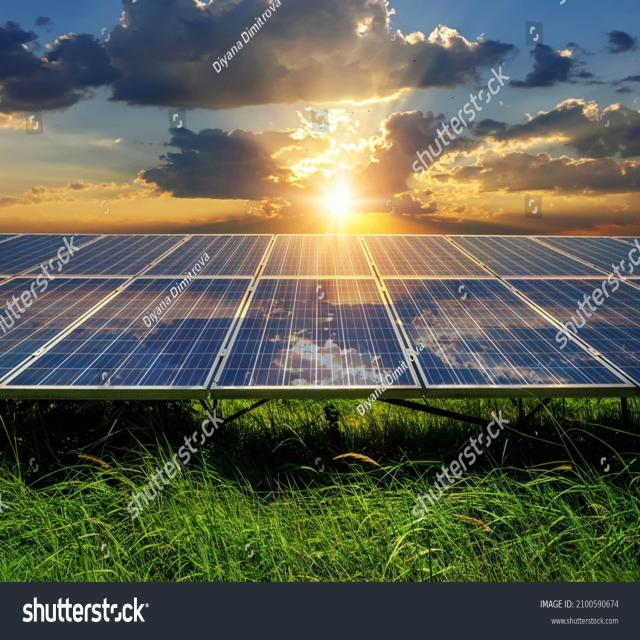clean-solar-panel: (1, 233, 640, 407)
